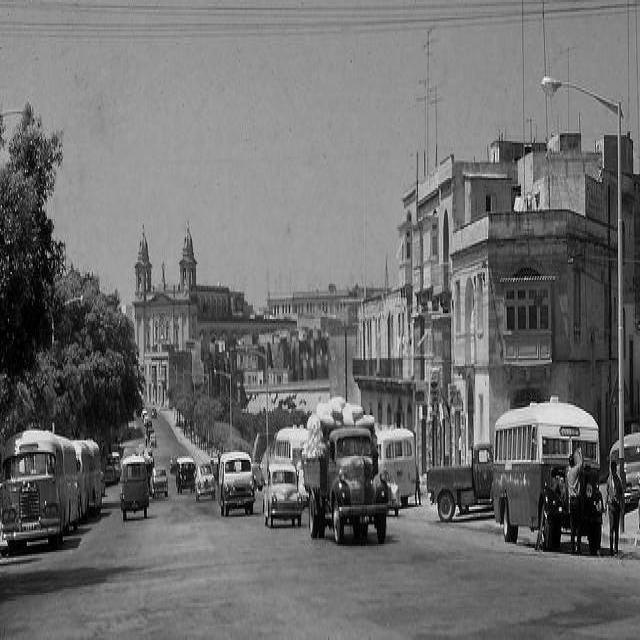vehicle: (52, 391, 606, 553), (493, 397, 605, 553), (300, 393, 389, 543), (1, 431, 79, 553), (427, 443, 493, 524), (375, 421, 417, 509), (262, 464, 304, 528), (217, 450, 255, 516), (608, 431, 640, 503), (121, 458, 149, 524), (275, 425, 307, 475), (83, 438, 103, 516), (70, 441, 90, 518), (175, 454, 196, 496), (194, 462, 215, 502), (150, 468, 168, 500), (252, 462, 266, 492), (104, 464, 114, 483), (150, 433, 157, 448), (151, 407, 158, 418)
